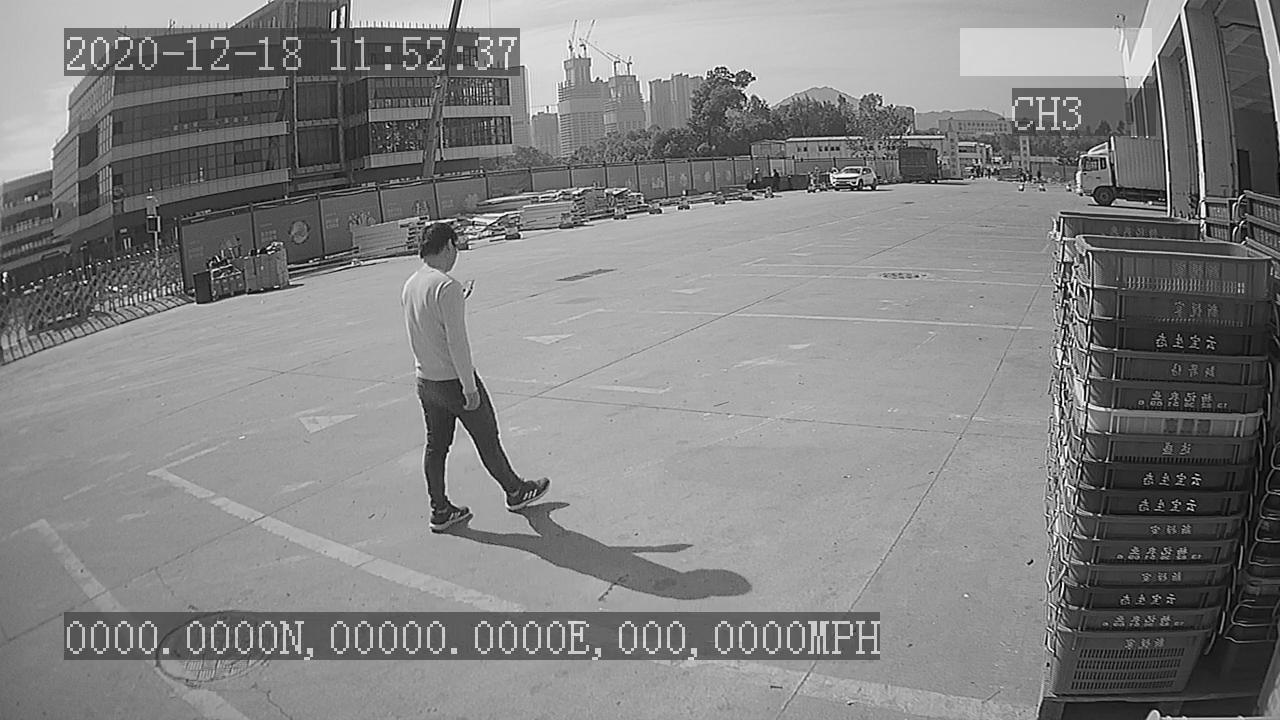person: (397, 215, 556, 538)
